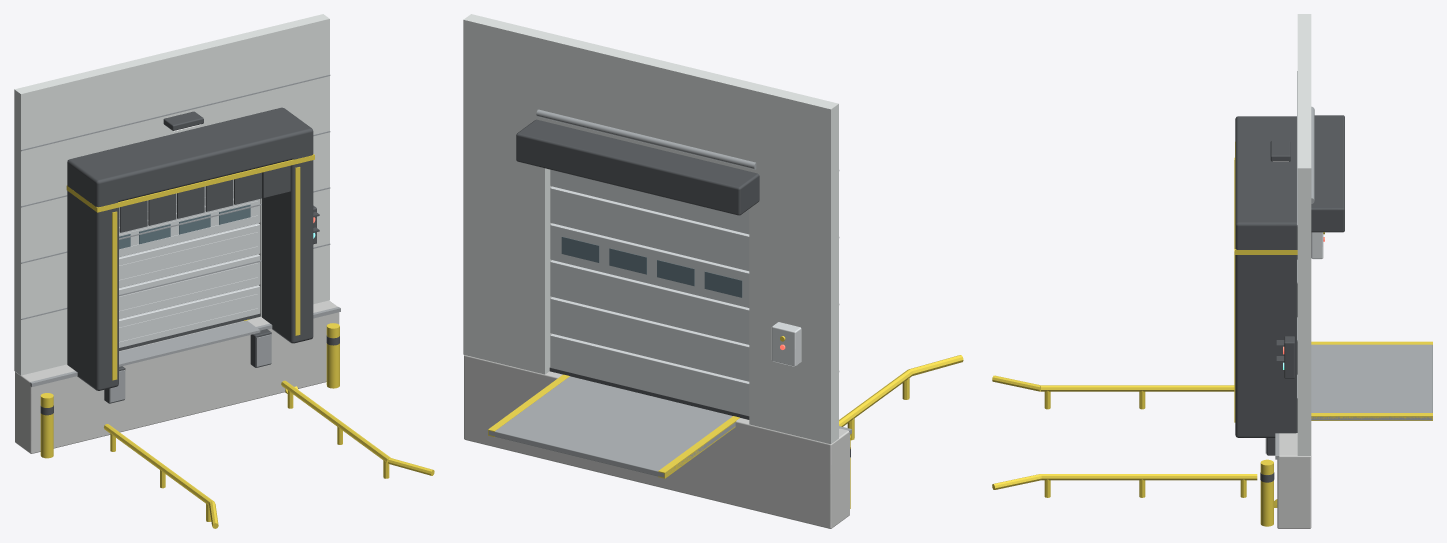
Rendered from dock_station.glb.
The picture shows the model from 3 angles, left to right: view 1: azimuth 30°, elevation 25°; view 2: azimuth 150°, elevation 25°; view 3: azimuth 270°, elevation 25°; orthographic projection. The views are drawn at different scales.
Visible parts, largest first — view 1: root__wall_panel, root__foam.002, root__concrete, door__door, root__hazard_yellow, root__foam.001, root__steel, door__door.001, leveller__steel.001, door__glass, root__foam.004, door__foam; view 2: root__wall_panel, door__door, root__concrete, leveller__steel, root__foam.003, door__glass, root__steel, root__hazard_yellow, leveller__hazard_yellow, root__door, door__foam; view 3: root__foam.002, leveller__steel, root__wall_panel, root__hazard_yellow, root__foam.003, root__concrete, leveller__hazard_yellow, root__foam.004, root__steel.
Boxes of the visible parts, x1,y1,x2,y2 form: root__wall_panel: [14, 14, 329, 375]; root__foam.002: [67, 107, 313, 390]; root__concrete: [15, 300, 339, 453]; door__door: [119, 179, 260, 347]; root__hazard_yellow: [40, 154, 434, 528]; root__foam.001: [40, 165, 339, 415]; root__steel: [21, 74, 340, 402]; door__door.001: [119, 190, 257, 343]; leveller__steel.001: [119, 320, 260, 366]; door__glass: [119, 204, 250, 249]; root__foam.004: [163, 111, 316, 244]; door__foam: [119, 313, 260, 350]; root__wall_panel: [463, 14, 838, 444]; door__door: [550, 169, 749, 415]; root__concrete: [464, 355, 849, 528]; leveller__steel: [488, 376, 735, 477]; root__foam.003: [516, 119, 759, 215]; door__glass: [561, 237, 742, 297]; root__steel: [536, 109, 851, 434]; root__hazard_yellow: [780, 336, 963, 508]; leveller__hazard_yellow: [488, 374, 739, 478]; root__door: [771, 322, 801, 366]; door__foam: [549, 367, 749, 419]; root__foam.002: [1235, 116, 1297, 437]; leveller__steel: [1311, 344, 1432, 420]; root__wall_panel: [1297, 14, 1311, 455]; root__hazard_yellow: [992, 142, 1324, 526]; root__foam.003: [1311, 115, 1344, 232]; root__concrete: [1277, 433, 1311, 528]; leveller__hazard_yellow: [1311, 341, 1432, 420]; root__foam.004: [1270, 140, 1294, 378]; root__steel: [1265, 71, 1314, 459].
Bounding box in the file's own units: 5.4 × 5.9 × 6.52.
